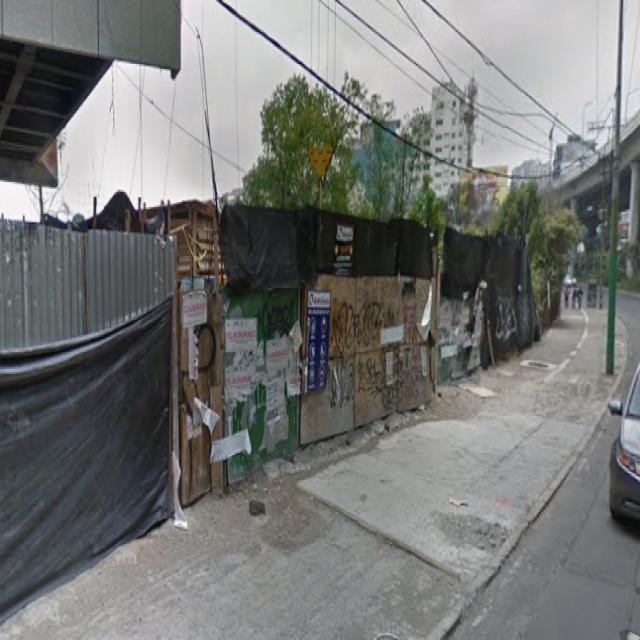stamps: (225, 317, 257, 352), (183, 293, 207, 329)
